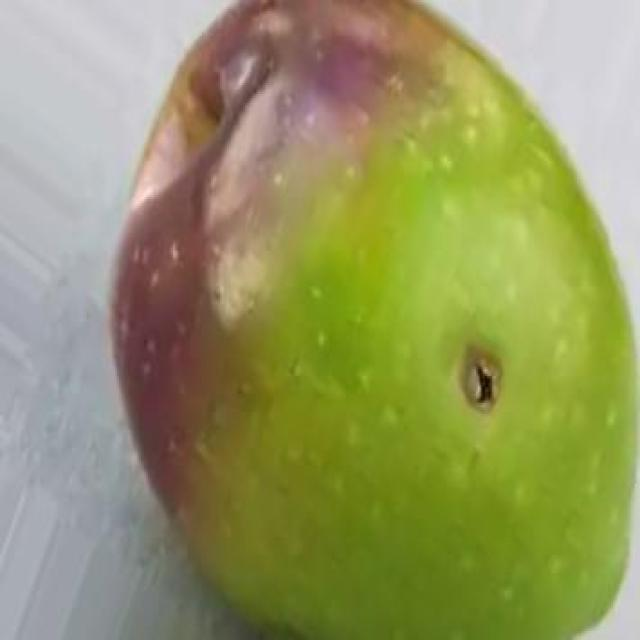Anthracnose: (113, 0, 632, 638)
